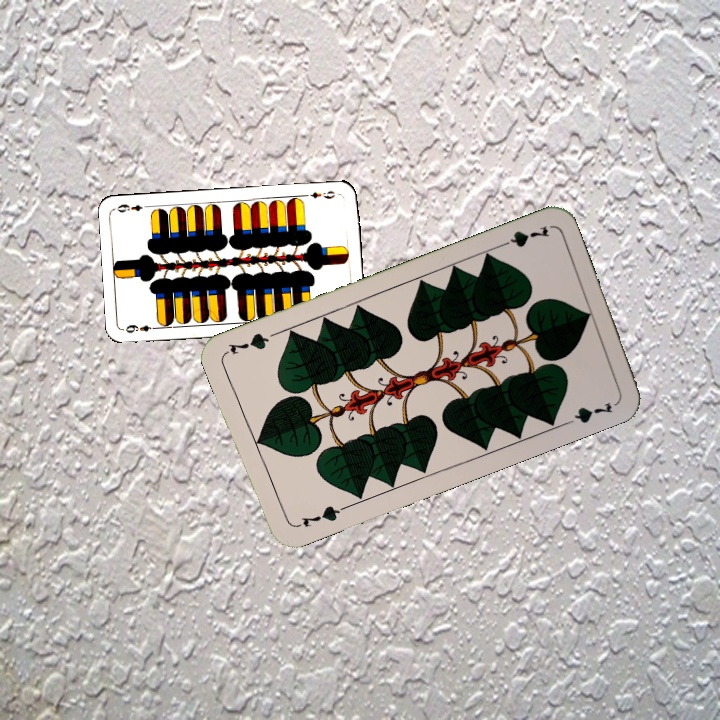E9: (122, 320, 161, 336), (301, 187, 337, 201)
G7: (291, 501, 348, 531), (494, 222, 552, 251)
